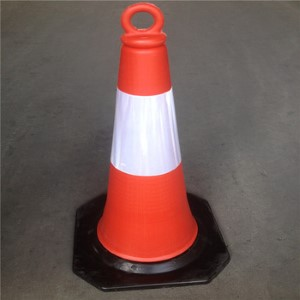traffic cone: (72, 1, 231, 293)
